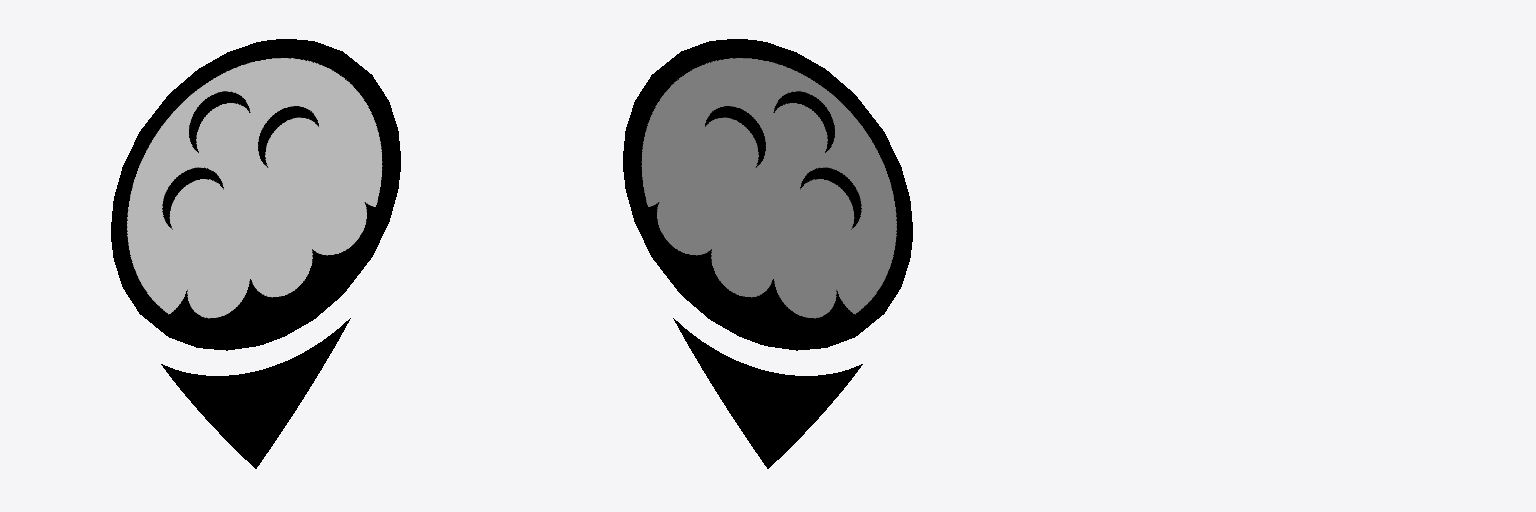
The picture shows the model from 3 angles: view 1: azimuth 30°, elevation 25°; view 2: azimuth 150°, elevation 25°; view 3: azimuth 270°, elevation 25°; orthographic projection.
Visible parts, largest first — view 1: ball_icon; view 2: ball_icon; view 3: none.
Part boxes in pixels (bbox=[...]): ball_icon: bbox=[111, 39, 400, 468]; ball_icon: bbox=[623, 39, 912, 468].
Size of the model in its own units: 13.75 by 19.31 by 0.
1 materials, 1 textured.